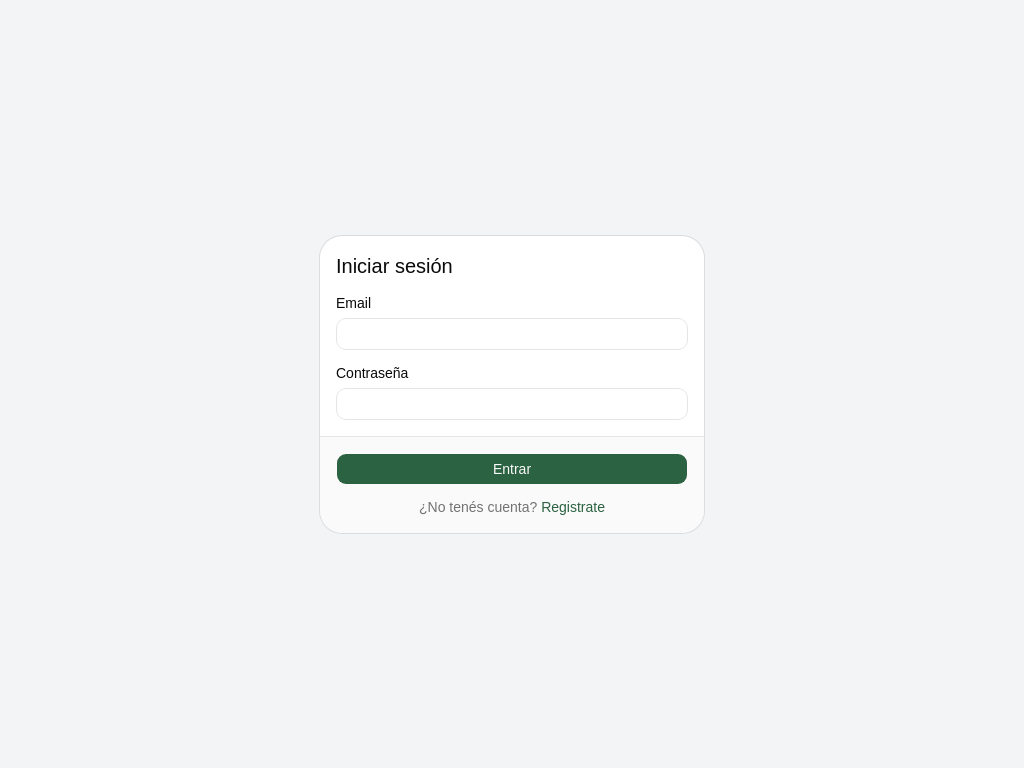
sin sesión, el dashboard redirige al login y al entrar vuelve al dashboard
Check: the heading "Iniciar sesión" is shown, box [336, 254, 453, 276]
Type "ana@example.com" into the field labelled "Email" at (512, 334), box [336, 318, 688, 350]
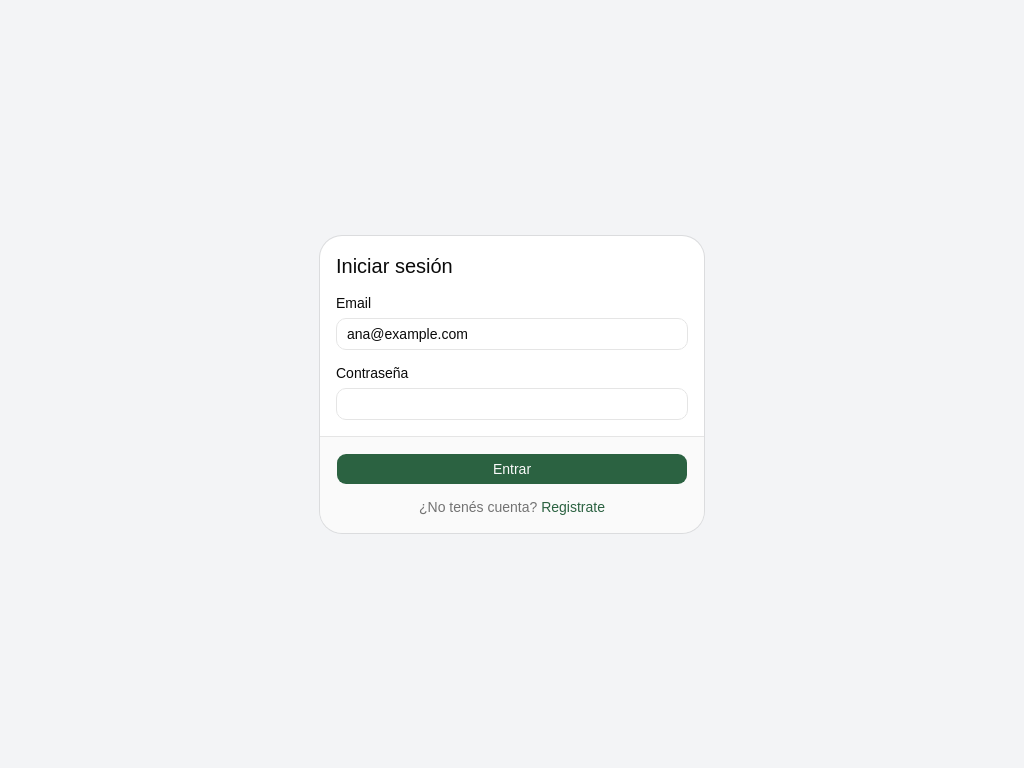
Type "clave-larga-123" into the password field labelled "Contraseña" at (512, 404), box [336, 388, 688, 420]
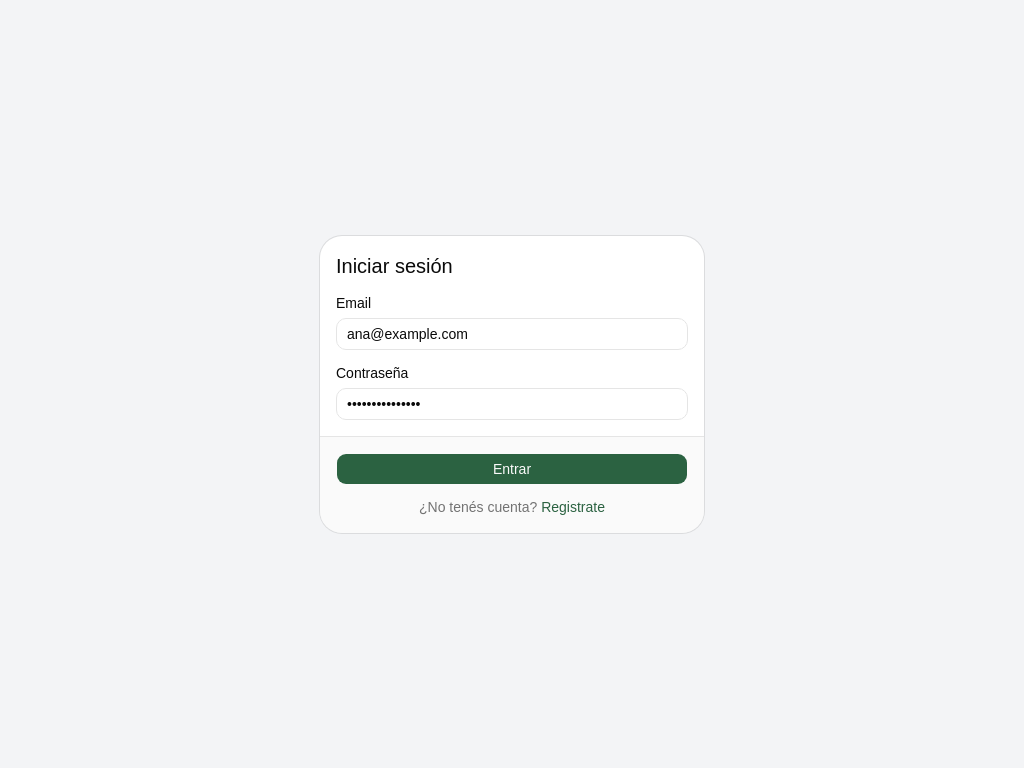
Click the button "Entrar" at (512, 468), box [336, 452, 688, 484]
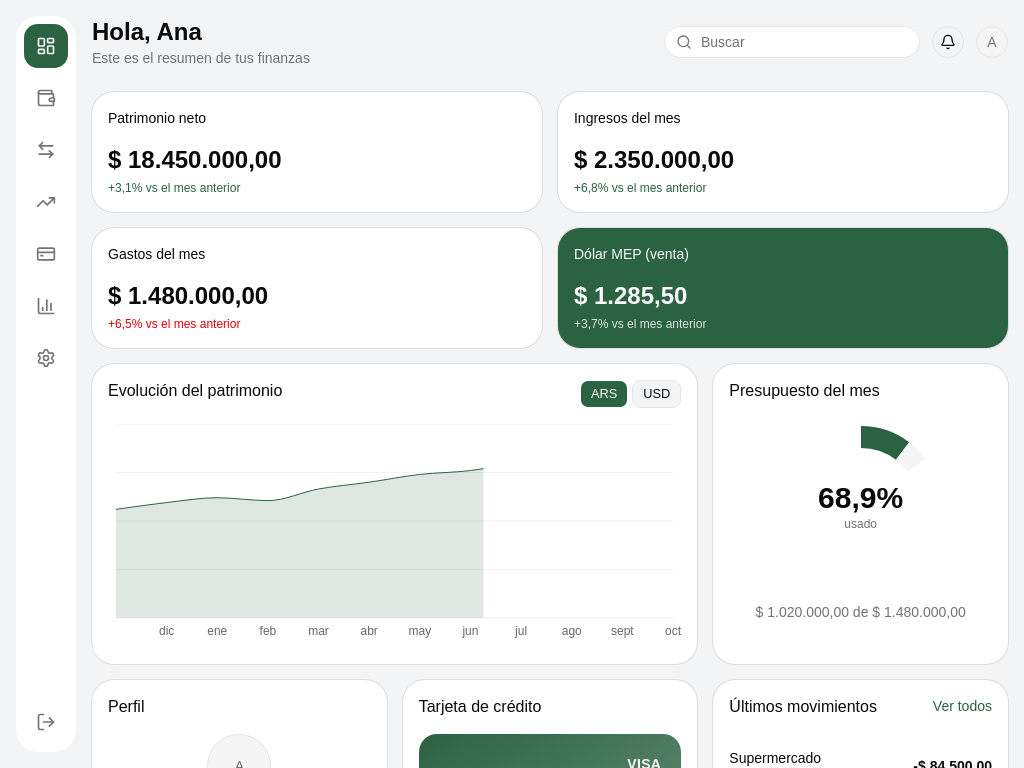
Check: the navigation bar named "Principal" is shown, box [16, 16, 76, 752]
Check: the heading "Hola, Ana" is shown, box [92, 18, 202, 45]
